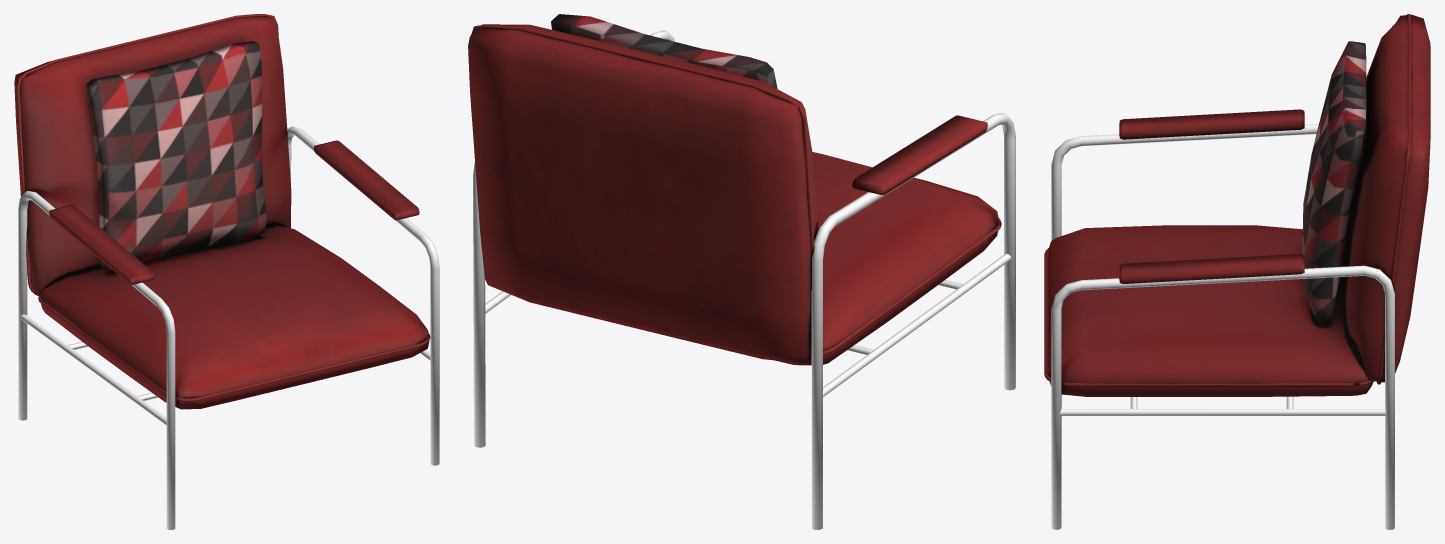
File: Clarence Arm Chair.fbx
3 views of the same model, side by side, from view 1: azimuth 30°, elevation 25°; view 2: azimuth 150°, elevation 25°; view 3: azimuth 270°, elevation 25° (orthographic). The views are drawn at different scales.
Parts seen in each view (by area): view 1: Clarence Arm Chair; view 2: Clarence Arm Chair; view 3: Clarence Arm Chair.
Boxes of the visible parts, x1,y1,x2,y2 form: Clarence Arm Chair: [14, 14, 439, 529]; Clarence Arm Chair: [468, 14, 1015, 529]; Clarence Arm Chair: [1044, 14, 1430, 529].
Bounding box in the file's own units: 0.9569 × 1.08 × 0.989.
Materials: 2 (1 with a texture image).
